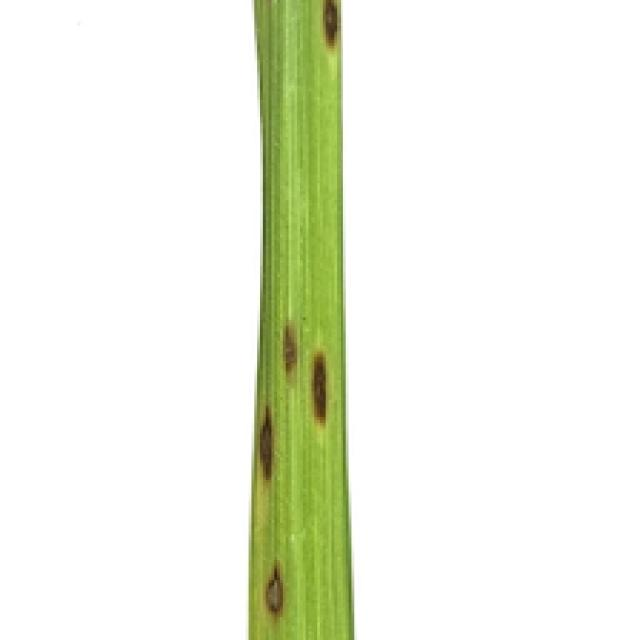Rice___Rice_Blast: (249, 0, 358, 637)
